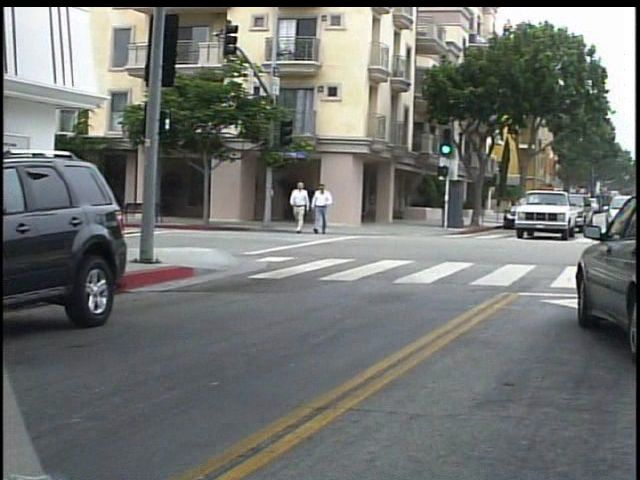person: (315, 179, 342, 239), (294, 178, 317, 241)
